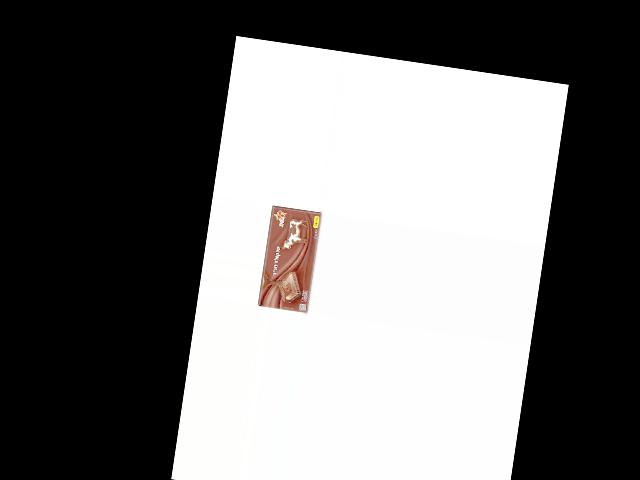chocolate: (257, 202, 322, 312)
